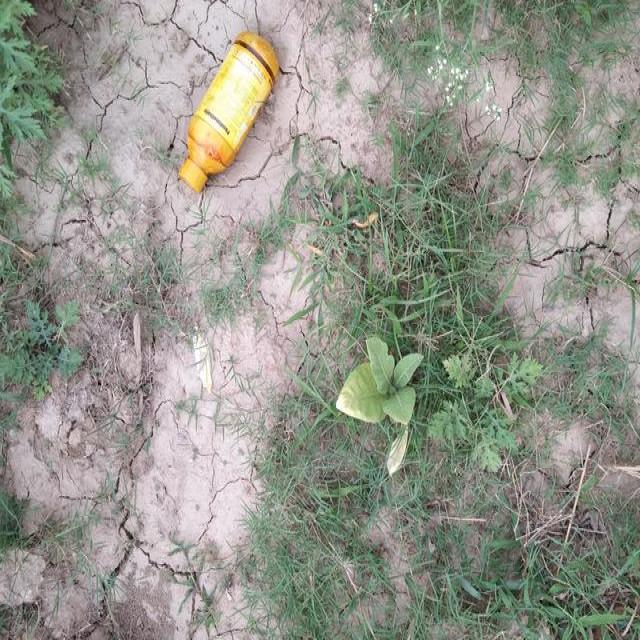crop: (335, 325, 428, 434)
